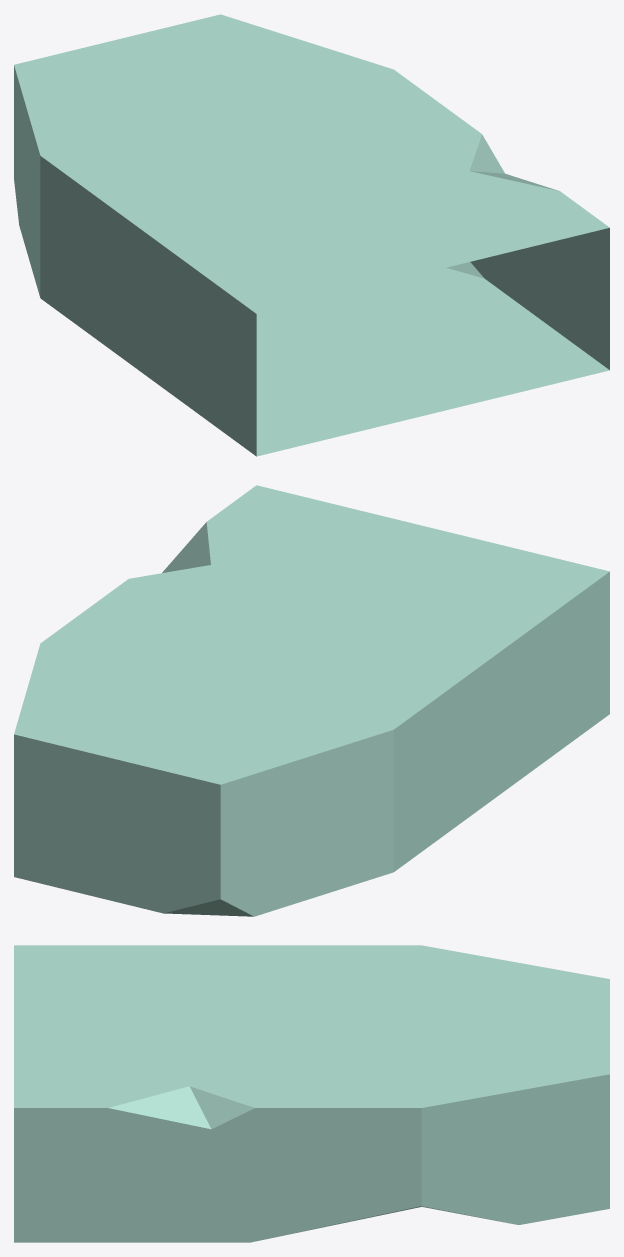
The picture shows the model from 3 angles, top to bottom: view 1: azimuth 30°, elevation 25°; view 2: azimuth 150°, elevation 25°; view 3: azimuth 270°, elevation 25°; orthographic projection. The views are drawn at different scales.
Parts seen in each view (by area): view 1: Object87; view 2: Object87; view 3: Object87.
Part boxes in pixels (x1,y1,x2,y2): Object87: (14,14,609,456); Object87: (14,485,609,916); Object87: (14,945,609,1242).
Bounding box in the file's own units: 13931 × 5374 × 21571.
